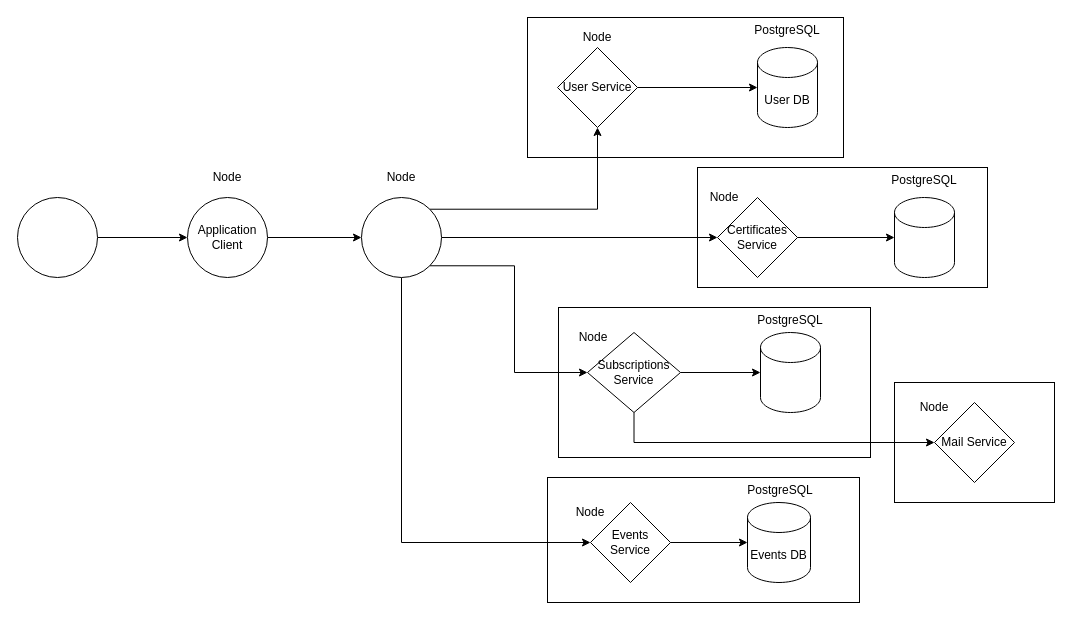
The diagram is 1072 pixels wide and 620 high, and some of its shapes have lost their labels. The shapes that lost their labels are listed below. From the top down, each one's centre as x and y in pixels, then its label:
[57,237]: User
[401,237]: API Gateway
[924,237]: Certificates DB
[790,372]: Subscriptions DB
